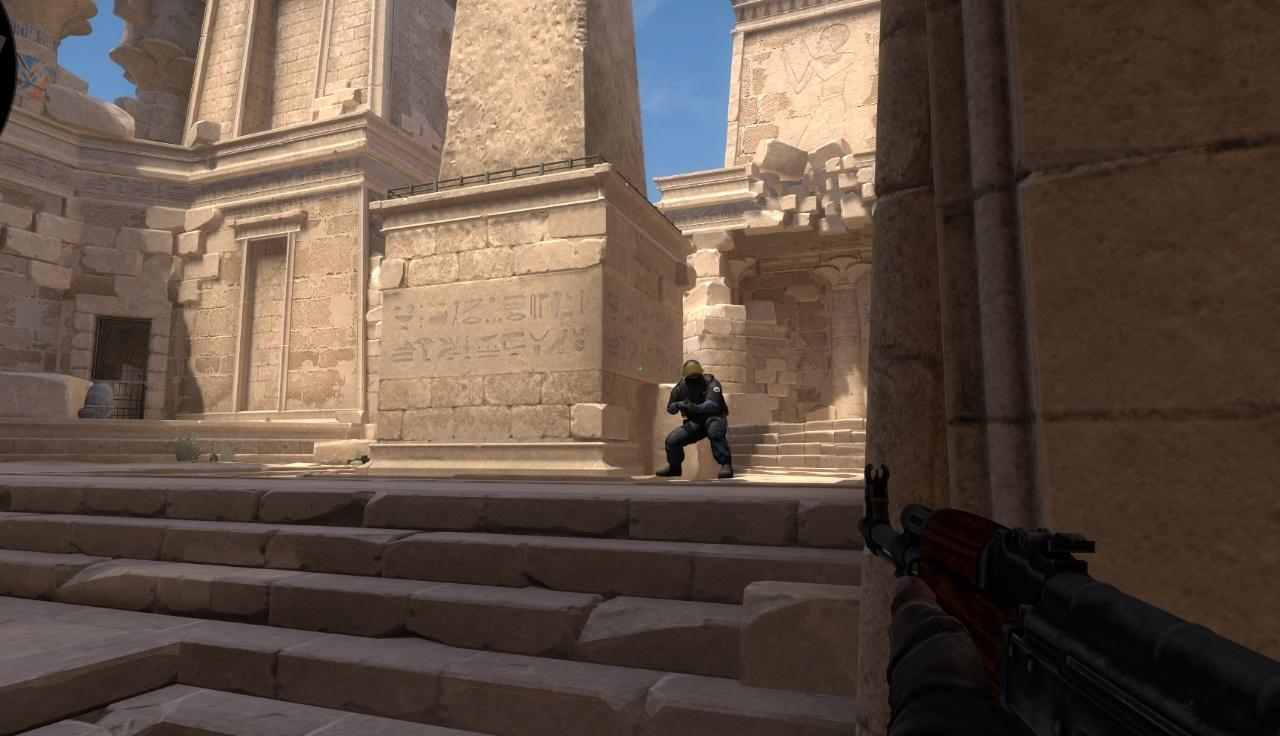ct: (656, 358, 730, 477)
cthead: (681, 359, 704, 387)
rifle: (847, 469, 1272, 732)
